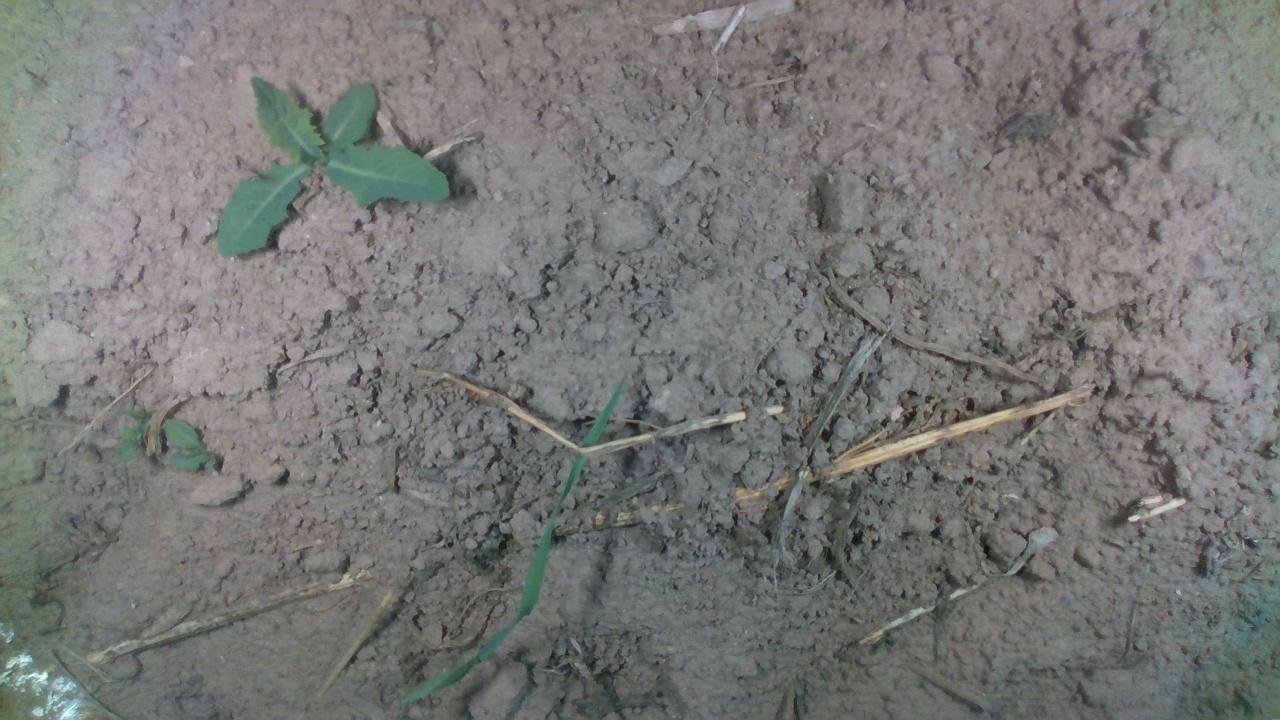weed: (214, 75, 453, 258)
